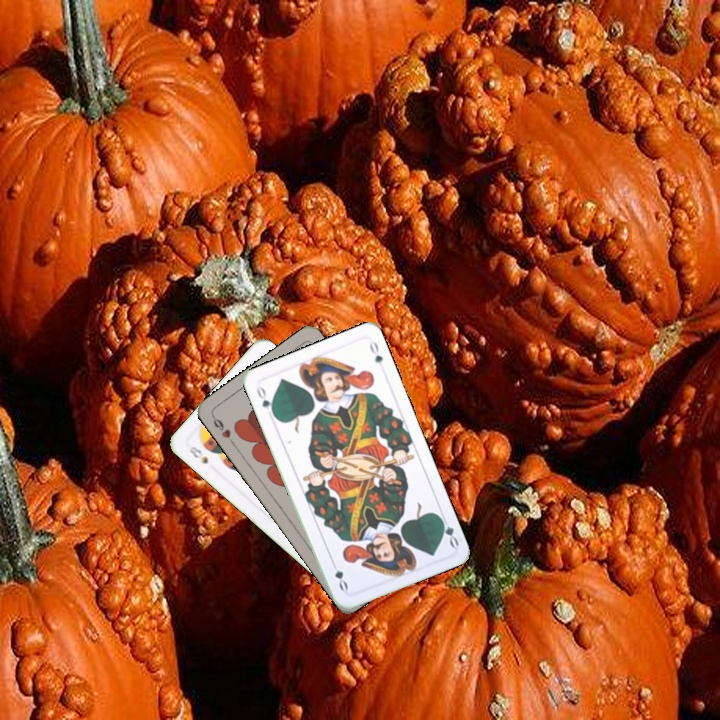GO: (435, 510, 461, 550), (252, 382, 278, 419)
H9: (208, 412, 237, 447)
S8: (185, 442, 211, 467)
